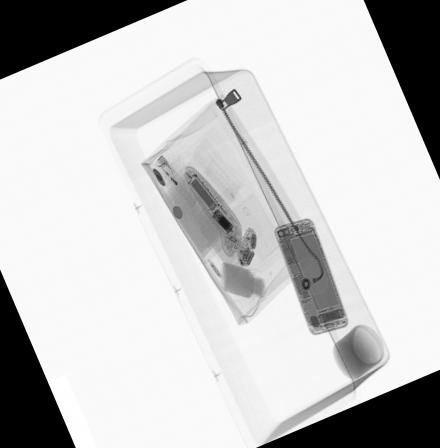Lighter: (153, 153, 199, 207)
